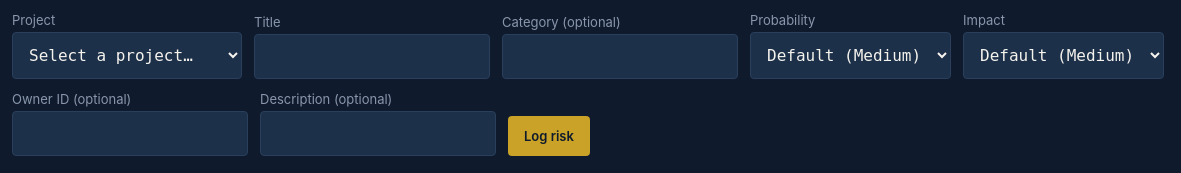
Scenario: CreateRiskForm › falls back to a generic error message when the action fails without one
The image size is (1181, 173).
Select "PRJ-001 — The Shore" in the dropdown labelled "Project" at {"x": 127, "y": 56}, box 12,32 -> 242,79
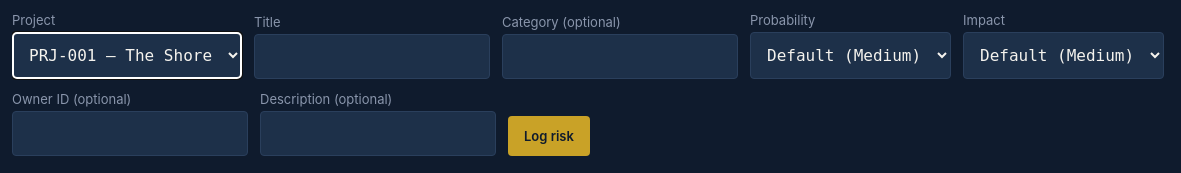
Type "Contractor delay on Phase 2" into the field labelled "Title" at {"x": 372, "y": 56}, box 254,34 -> 490,79
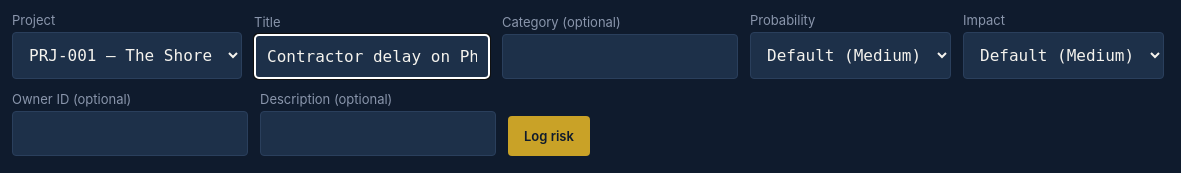
Click the button "Log risk" at {"x": 549, "y": 136}, box 508,116 -> 590,156
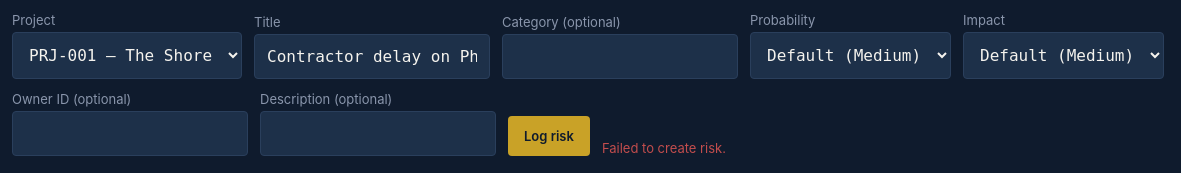
Expected: the text "Failed to create risk." is shown, 602,140 -> 726,156
